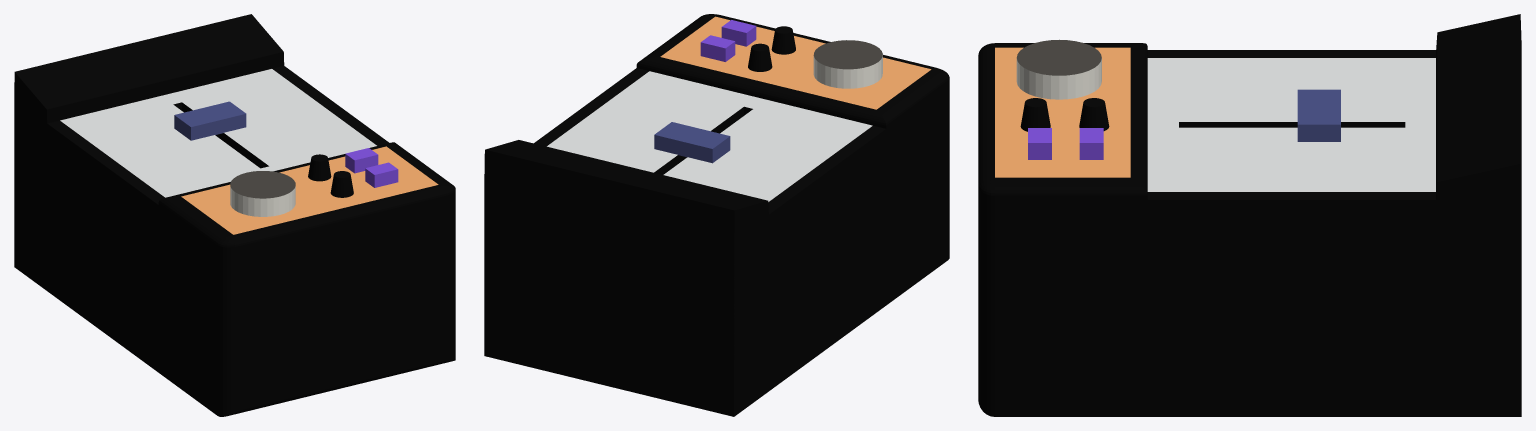
Rendered from mixer1Unicopanciasu.fbx.
3 views of the same model, side by side, from view 1: azimuth 30°, elevation 25°; view 2: azimuth 150°, elevation 25°; view 3: azimuth 270°, elevation 25° (orthographic). The views are drawn at different scales.
Visible parts, largest first — view 1: Mixer1Unico; view 2: Mixer1Unico; view 3: Mixer1Unico.
Boxes of the visible parts, box(x1,y1,x2,y2) form: Mixer1Unico: box(14, 14, 455, 416); Mixer1Unico: box(484, 14, 949, 416); Mixer1Unico: box(978, 14, 1521, 416).
Size of the model in its own units: 92.95 by 73.45 by 143.
